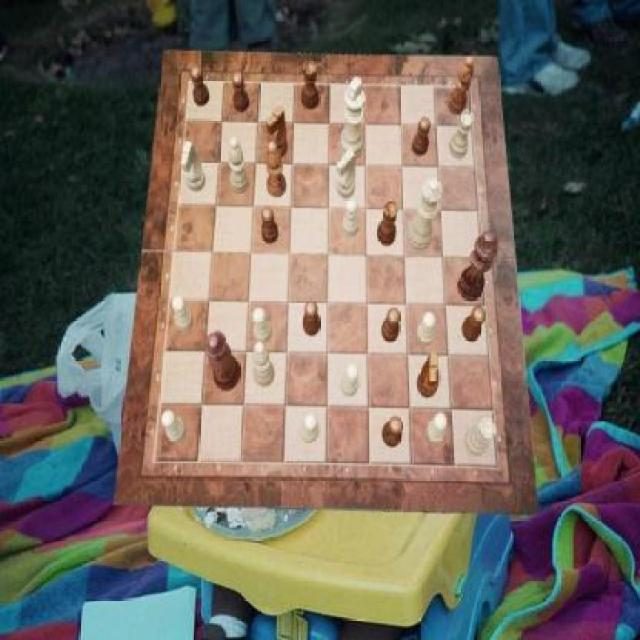bishop: (448, 57, 474, 117), (268, 142, 288, 198)
black-bishop: (457, 230, 498, 302)
black-king: (266, 106, 289, 159), (417, 352, 440, 398)
black-knight: (463, 306, 486, 342), (191, 65, 210, 106), (232, 71, 250, 112), (412, 117, 430, 157), (303, 300, 321, 336), (382, 417, 402, 448), (262, 208, 279, 244), (382, 308, 399, 342)
black-pawn: (204, 332, 240, 392)
black-queen: (377, 200, 398, 246), (302, 60, 321, 109)
black-rook: (229, 138, 249, 194), (252, 341, 275, 387)
white-bishop: (338, 76, 366, 160)
white-king: (180, 142, 206, 192), (337, 149, 356, 200)
white-knight: (172, 295, 195, 333), (163, 410, 188, 444), (254, 308, 274, 344), (426, 414, 447, 446), (340, 362, 359, 396), (417, 311, 436, 345), (342, 199, 359, 236), (300, 412, 319, 443)
white-pawn: (408, 177, 443, 251)
white-queen: (465, 417, 497, 455), (449, 110, 474, 158)
